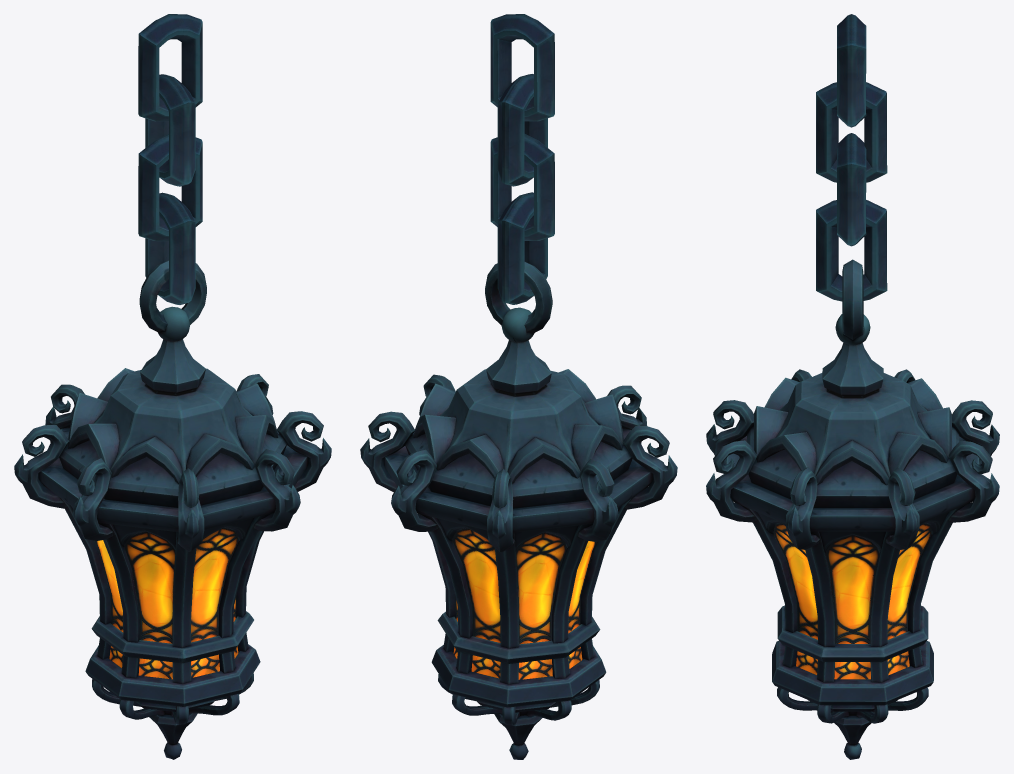
Rendered from SM_LanternChained.glb.
3 views of the same model, side by side, from view 1: azimuth 30°, elevation 25°; view 2: azimuth 150°, elevation 25°; view 3: azimuth 270°, elevation 25° (orthographic).
Parts seen in each view (by area): view 1: SM_LanternChained; view 2: SM_LanternChained; view 3: SM_LanternChained.
Boxes of the visible parts, bbox=[...] form: SM_LanternChained: bbox=[14, 14, 331, 759]; SM_LanternChained: bbox=[360, 14, 677, 759]; SM_LanternChained: bbox=[706, 14, 999, 759].
Size of what is drawn, in the model's own units: 0.8999 by 2.5 by 0.8999.
Materials: 2 (2 with a texture image).
